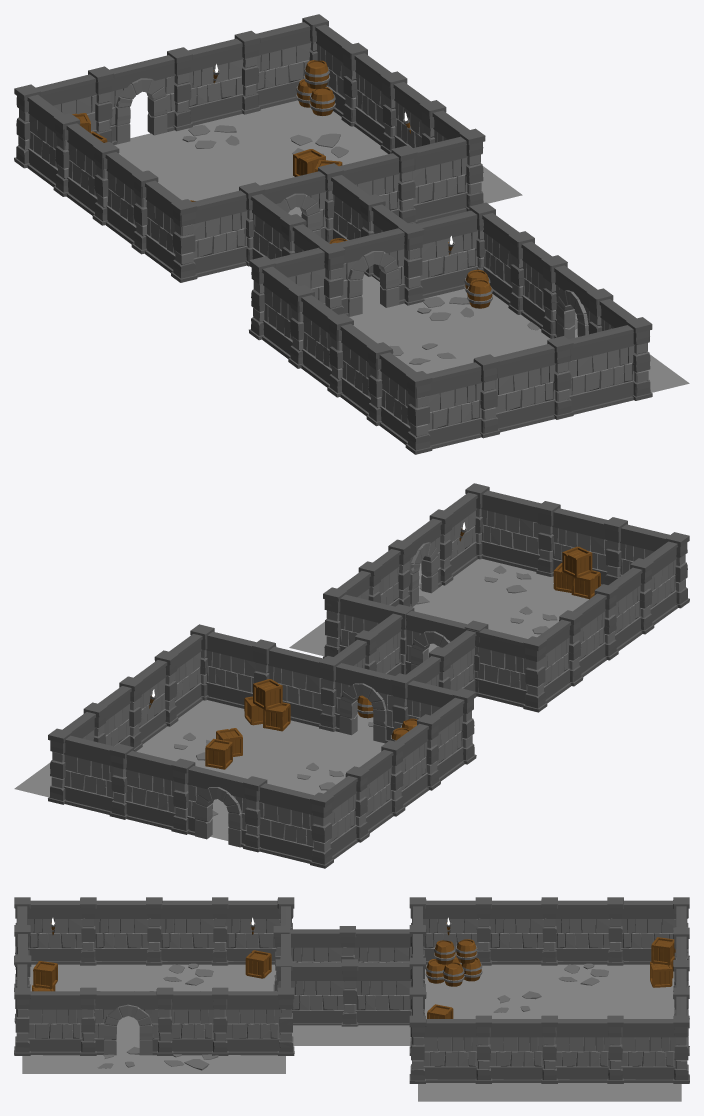
The model's file is modulardungeon.fbx.
The picture shows the model from 3 angles, top to bottom: view 1: azimuth 30°, elevation 25°; view 2: azimuth 150°, elevation 25°; view 3: azimuth 270°, elevation 25°; orthographic projection. The views are drawn at different scales.
Parts seen in each view (by area): view 1: Cube.101, Cube.096, Cube.102, Cube.018, Cube.010, Cube.056, Cube.051, Cube.059, Cube.071, Cube.069, Cube.103, Cube.060 (+34 smaller); view 2: Cube.011, Cube.123, Cube.010, Cube.101, Cube.058, Cube.018, Cube.051, Cube.056, Cube.057, Cube.096, Cube.070, Cube.105 (+39 smaller); view 3: Cube.065, Cube.112, Cube.117, Cube.062, Cube.052, Cube.105, Cube.053, Cube.061, Cube.054, Cube.055, Cube.109, Cube.070 (+54 smaller).
Boxes of the visible parts, x1,y1,x2,y2 form: Cube.101: [569, 317, 652, 414]; Cube.096: [494, 336, 573, 432]; Cube.102: [427, 354, 500, 449]; Cube.018: [167, 38, 243, 131]; Cube.010: [88, 55, 175, 144]; Cube.056: [413, 128, 485, 223]; Cube.051: [234, 22, 311, 114]; Cube.059: [192, 182, 265, 277]; Cube.071: [416, 202, 490, 298]; Cube.069: [337, 228, 405, 316]; Cube.103: [379, 352, 432, 454]; Cube.060: [145, 180, 197, 282]; Cube.011: [258, 783, 333, 868]; Cube.123: [467, 628, 547, 712]; Cube.010: [187, 766, 267, 852]; Cube.101: [465, 483, 541, 571]; Cube.058: [318, 656, 394, 743]; Cube.018: [125, 750, 195, 834]; Cube.051: [63, 735, 133, 819]; Cube.056: [190, 624, 256, 708]; Cube.057: [252, 639, 323, 726]; Cube.096: [536, 501, 607, 585]; Cube.070: [388, 518, 442, 607]; Cube.105: [573, 584, 618, 676]; Cube.065: [341, 959, 411, 1026]; Cube.112: [28, 987, 96, 1055]; Cube.117: [80, 897, 148, 965]; Cube.062: [541, 897, 609, 965]; Cube.052: [621, 1015, 689, 1083]; Cube.105: [146, 897, 214, 965]; Cube.053: [555, 1015, 623, 1083]; Cube.061: [475, 897, 543, 965]; Cube.054: [489, 1015, 558, 1083]; Cube.055: [423, 1015, 492, 1083]; Cube.109: [226, 988, 294, 1055]; Cube.070: [94, 987, 173, 1055].
Size of the model in its own units: 2052 by 4103 by 434.
